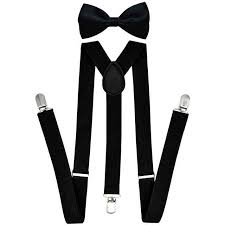bow: (74, 2, 152, 42)
